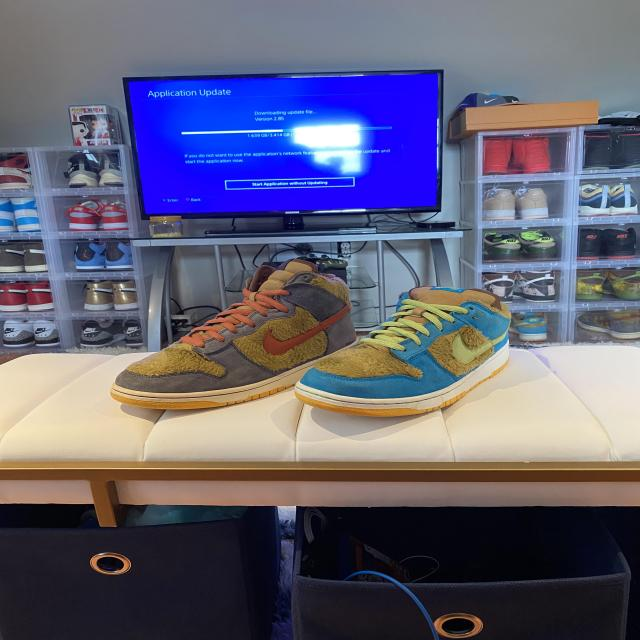shoe: (105, 248, 362, 430), (284, 270, 534, 427)
